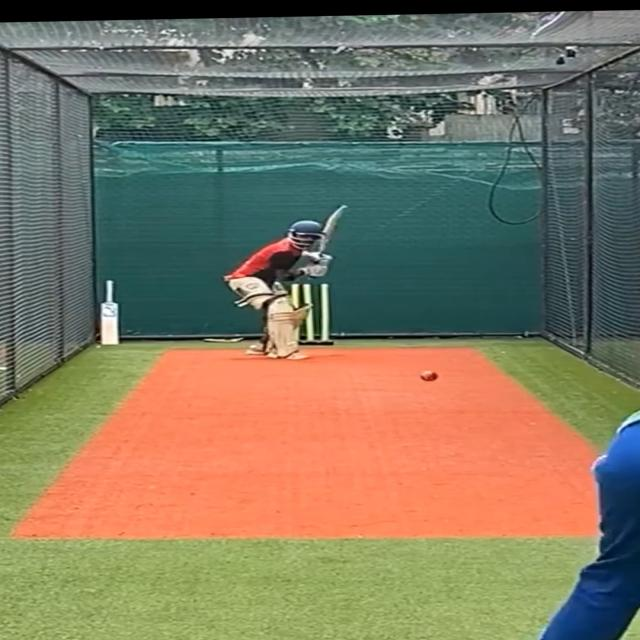ball: (414, 368, 442, 383)
stump: (284, 281, 336, 347)
